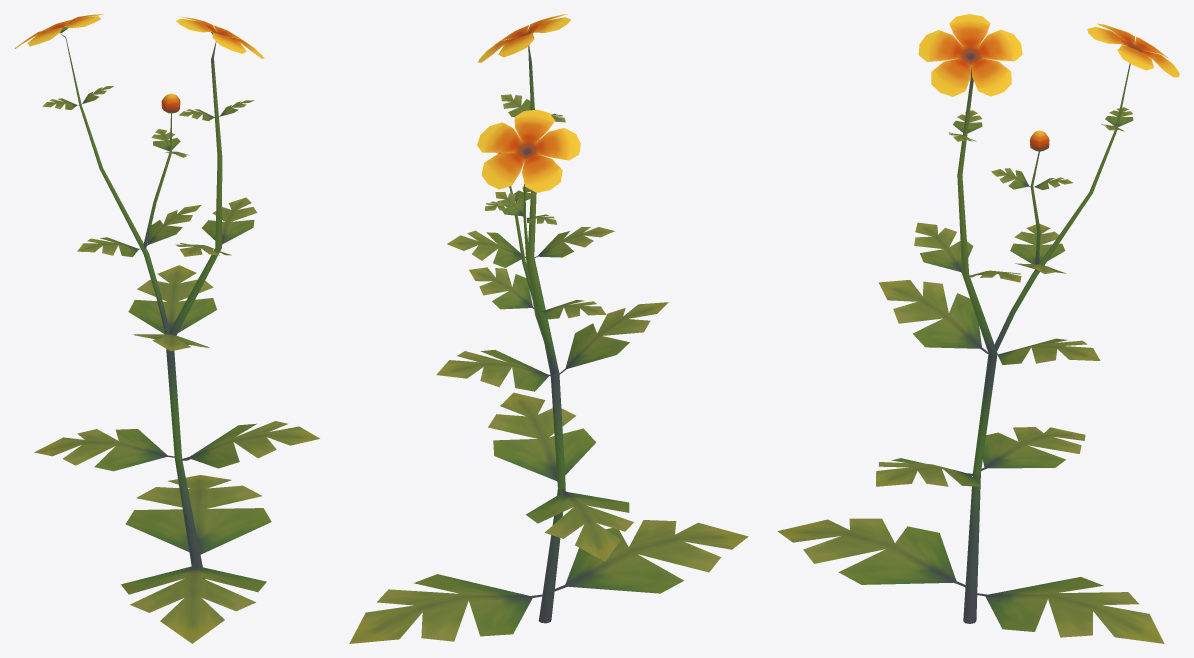
Rendered from low_poly_flower.glb.
3 renders of one model, left to right at view 1: azimuth 30°, elevation 25°; view 2: azimuth 150°, elevation 25°; view 3: azimuth 270°, elevation 25°, orthographic. The views are drawn at different scales.
Parts seen in each view (by area): view 1: leaf.001, stem, crown.001; view 2: leaf.001, crown.001, stem; view 3: leaf.001, crown.001, stem.
Part boxes in pixels (x1,y1,x2,y2): leaf.001: (34, 86, 319, 643); stem: (60, 33, 222, 579); crown.001: (14, 14, 264, 58); leaf.001: (349, 94, 748, 643); crown.001: (477, 14, 580, 192); stem: (509, 45, 565, 623); leaf.001: (777, 107, 1164, 643); crown.001: (918, 14, 1179, 96); stem: (957, 63, 1130, 623).
Bounding box in the file's own units: 3.24 × 8.08 × 4.94.
1 material, 1 textured.
